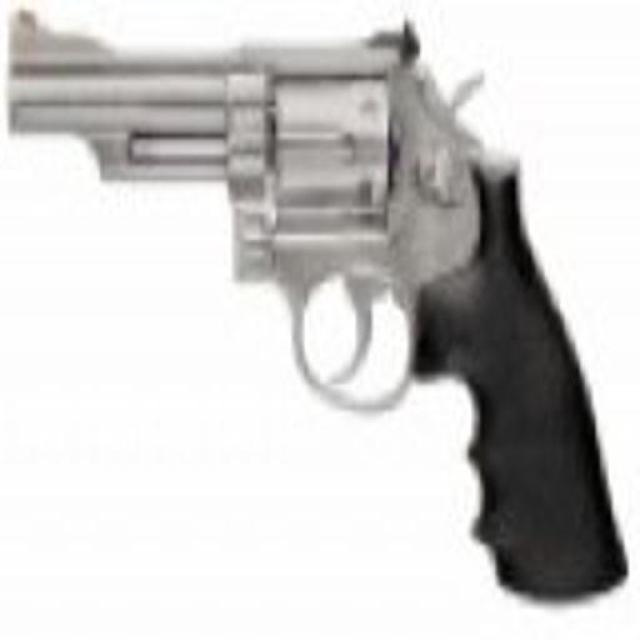pistol: (4, 10, 615, 596)
